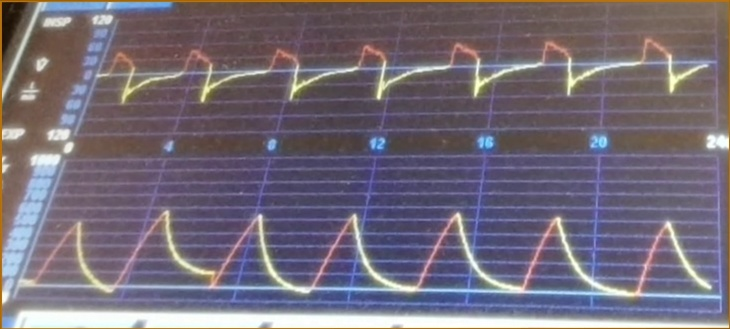Accumulation Flow: (115, 27, 706, 133)
Volume: (51, 194, 706, 310)
